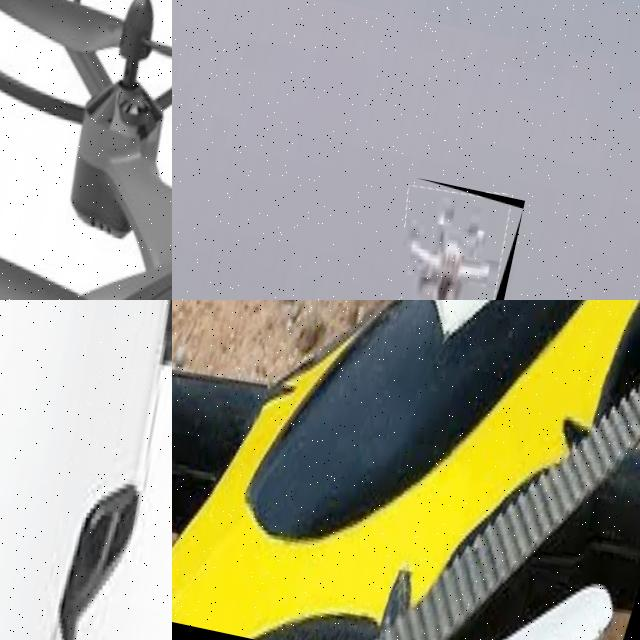0: (383, 177, 524, 300)
drone: (172, 300, 640, 640), (0, 300, 172, 640), (0, 0, 172, 300)
